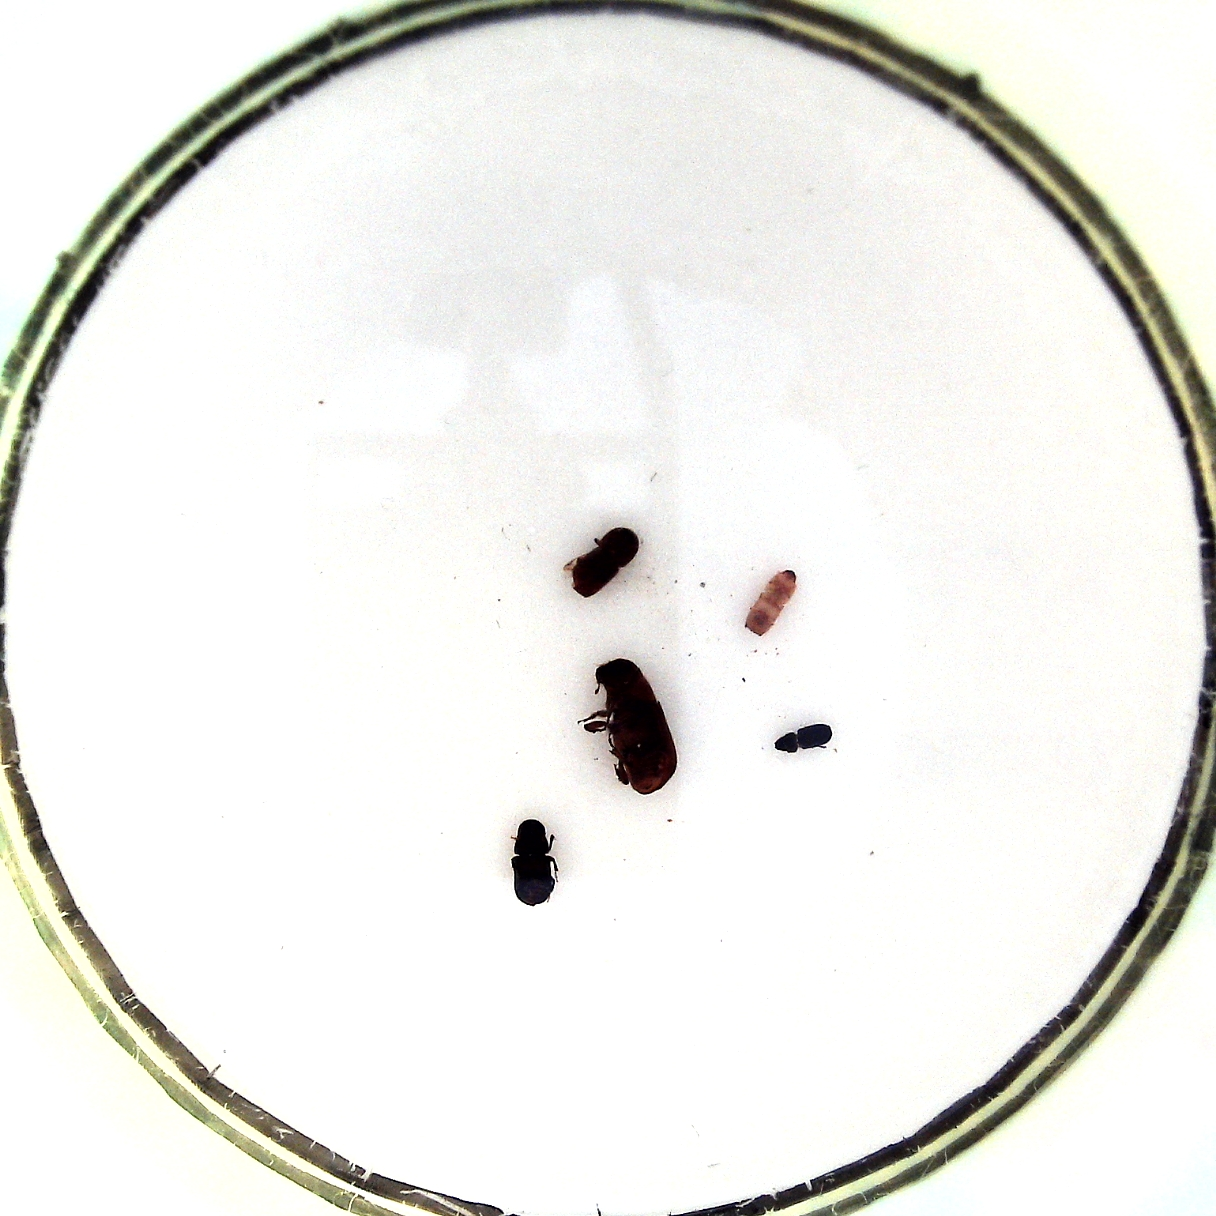Leconte: (576, 655, 681, 798)
Linnaeus: (566, 522, 643, 598)
acuminatus: (743, 568, 800, 637)
armandi: (507, 816, 565, 906)
coleoptera: (771, 719, 835, 759)
